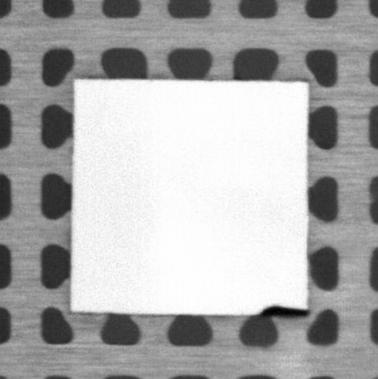DIE_BROKEN: (255, 304, 311, 318)
